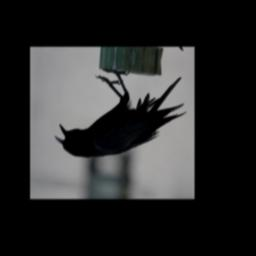Crow: (53, 62, 189, 170)
